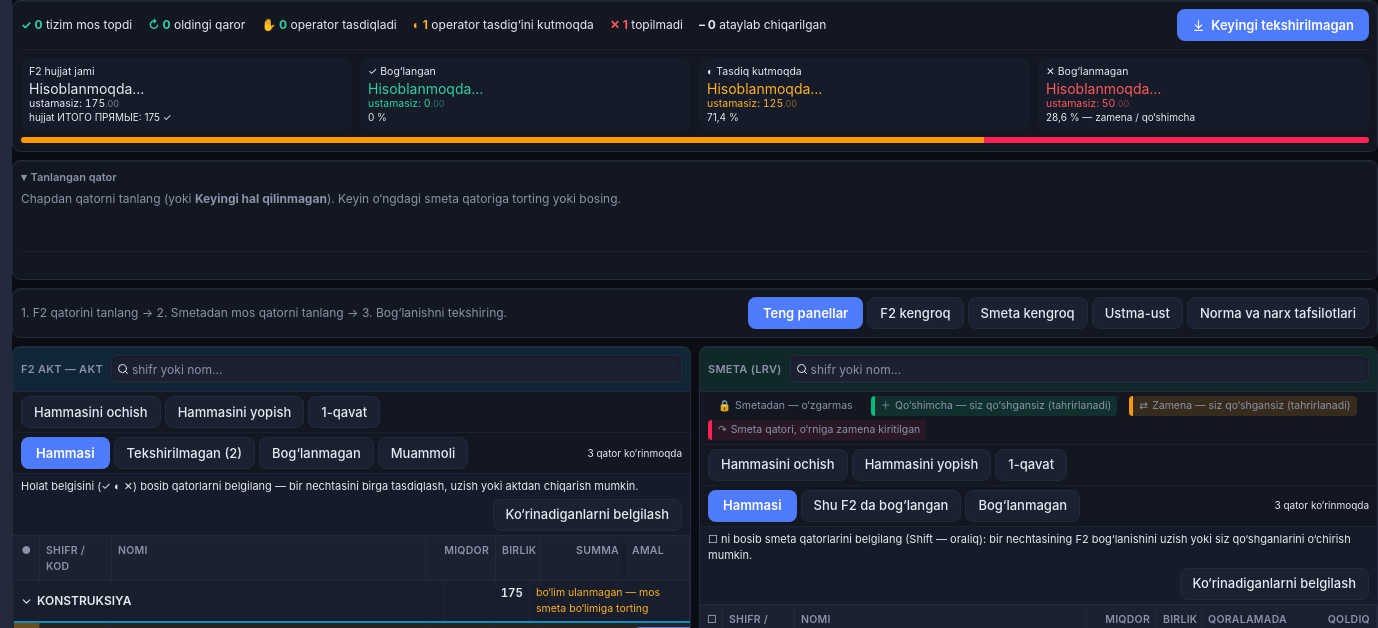
Test: F2 workbench operator controls › tree expand buttons are separate from selection/link actions
Click the button named "F2 qatorni yopish: KONSTRUKSIYA" at (26, 601), box [20,595,33,608]
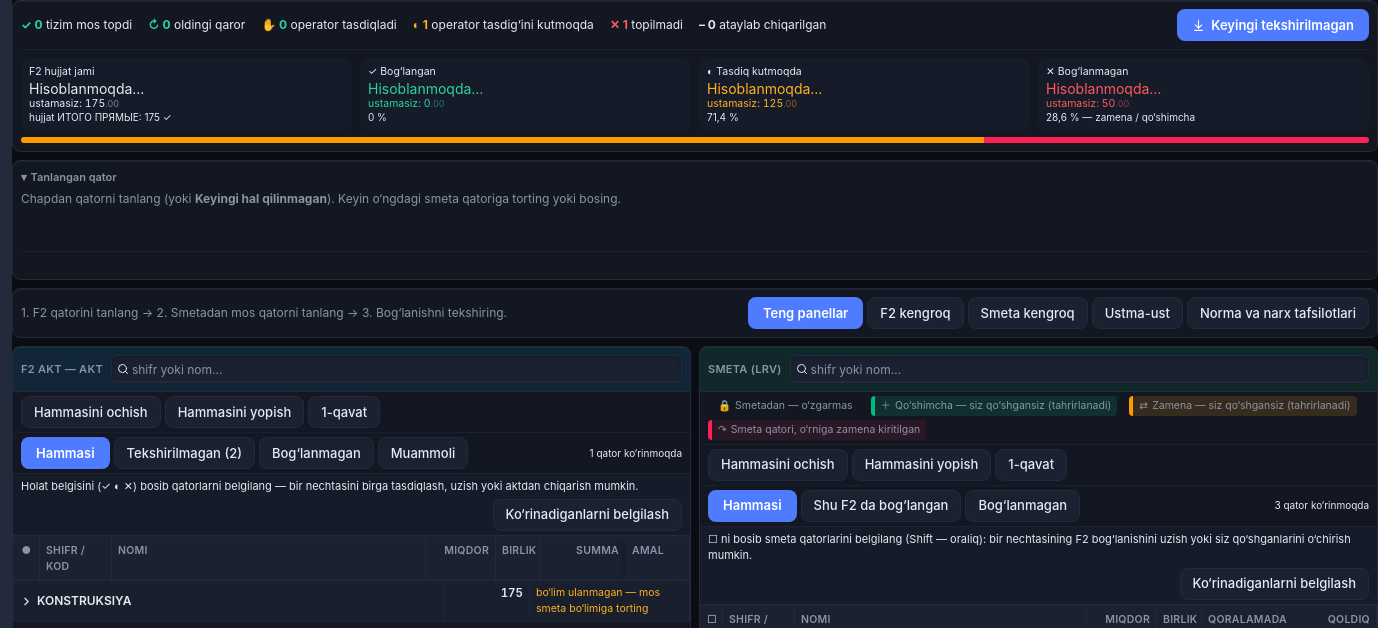
Expected: the button named "F2 qatorni ochish: KONSTRUKSIYA" is shown, [20,595,33,608]
